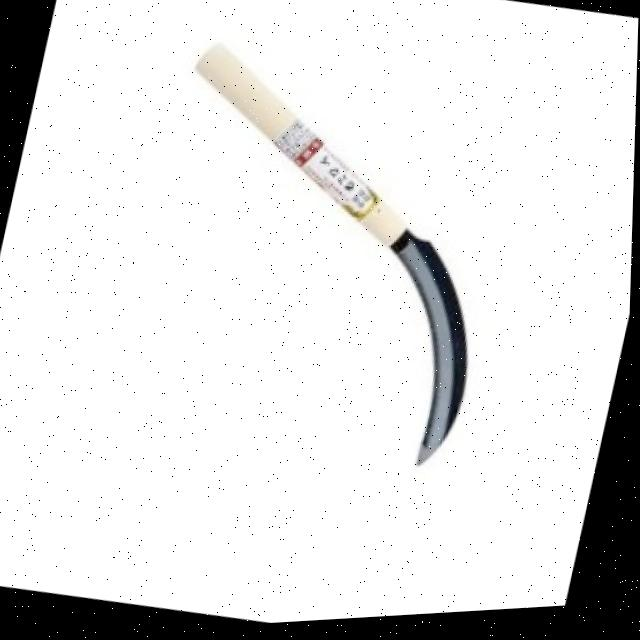sickle: (0, 0, 570, 553)
